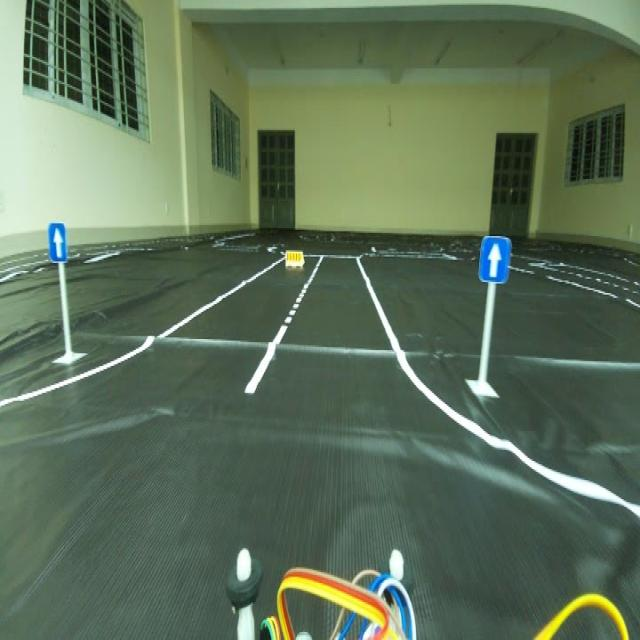onewayroad: (480, 230, 508, 285), (45, 220, 73, 258)
roadblock: (284, 244, 304, 268)
